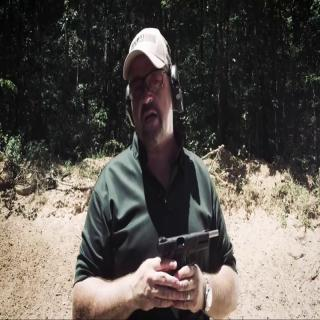gun: (155, 219, 227, 302)
